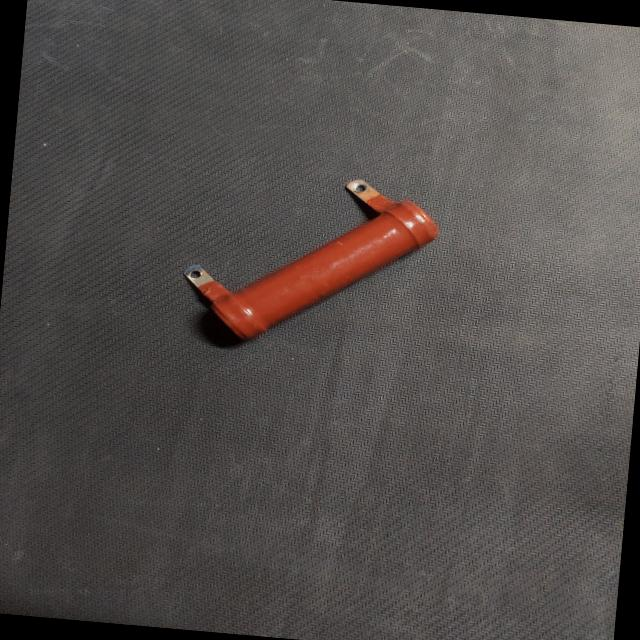resistor: (170, 156, 448, 368)
